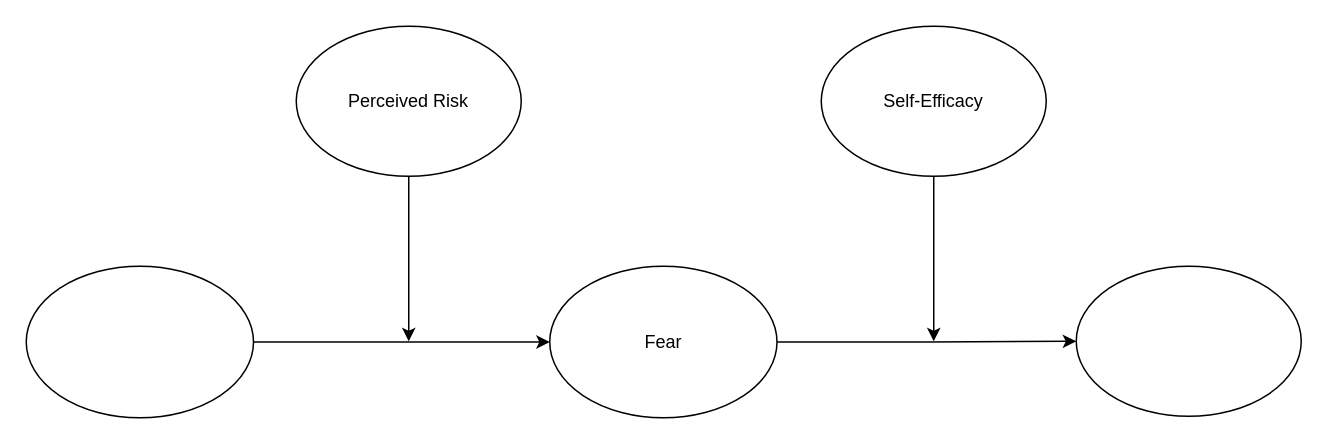
Some shapes in this 1328 by 444 pixel diagram are drawn without their labels. The centre of each missing label's shape, as x and y in pixels:
"Media Exposure TV Radio Social Media" goes at point (139, 341).
"Protective Behaviors" goes at point (1188, 340).
